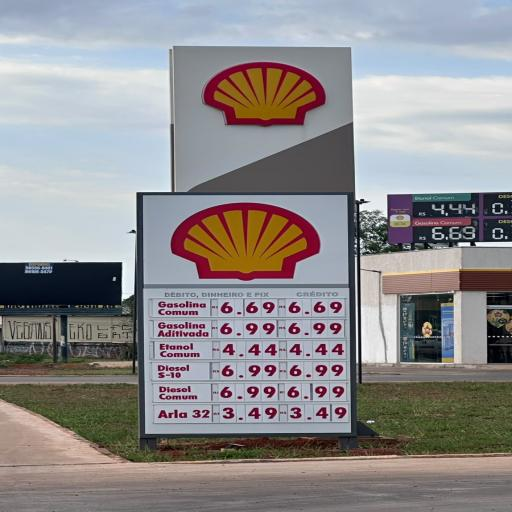ETANOL: (154, 342, 207, 361)
GASOLINA AD: (151, 319, 212, 338)
GASOLINA C: (151, 299, 212, 317)
S10: (154, 362, 199, 380)
S500: (154, 384, 204, 402)
placa: (147, 289, 282, 403)
preco: (216, 384, 278, 401), (219, 299, 278, 316), (220, 341, 279, 358), (221, 362, 280, 378), (219, 321, 277, 336)
